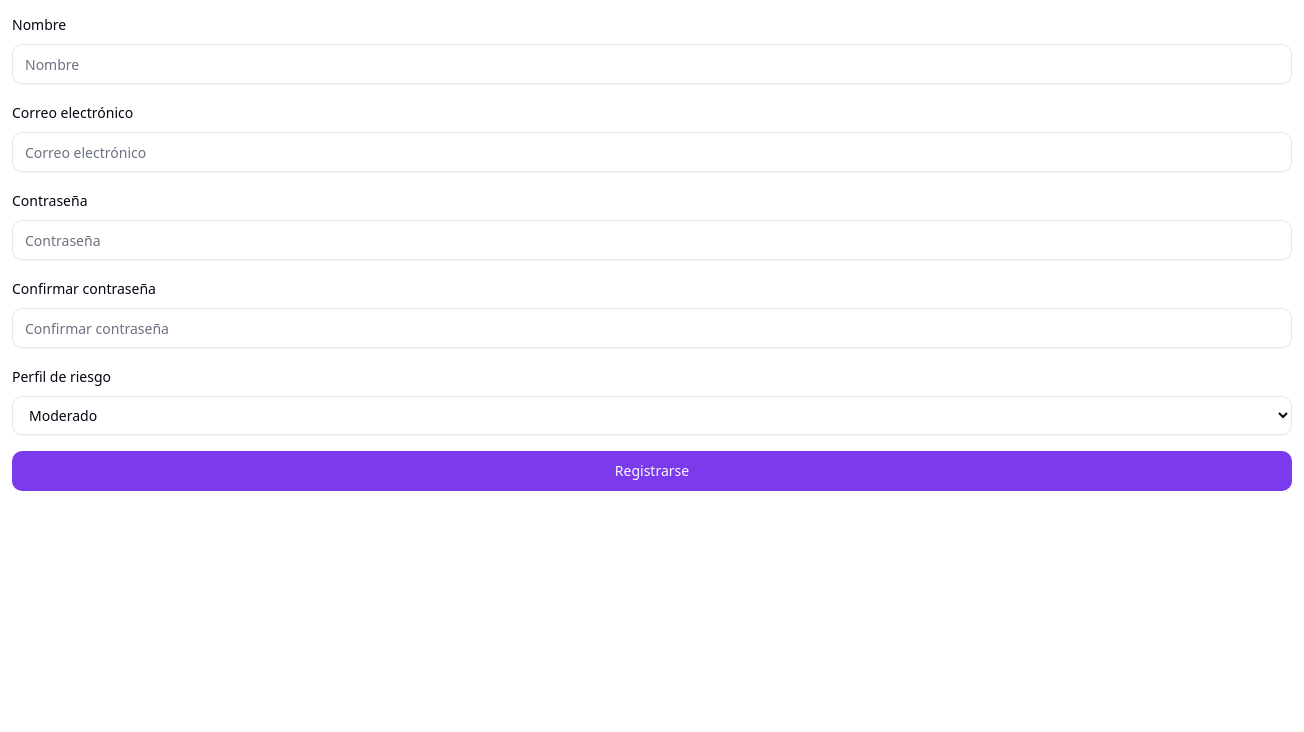
Test: RegisterForm › muestra error cuando el correo tiene formato inválido
Type "Jane" into the field with placeholder "Nombre" at point(652, 64), box [12, 44, 1292, 84]
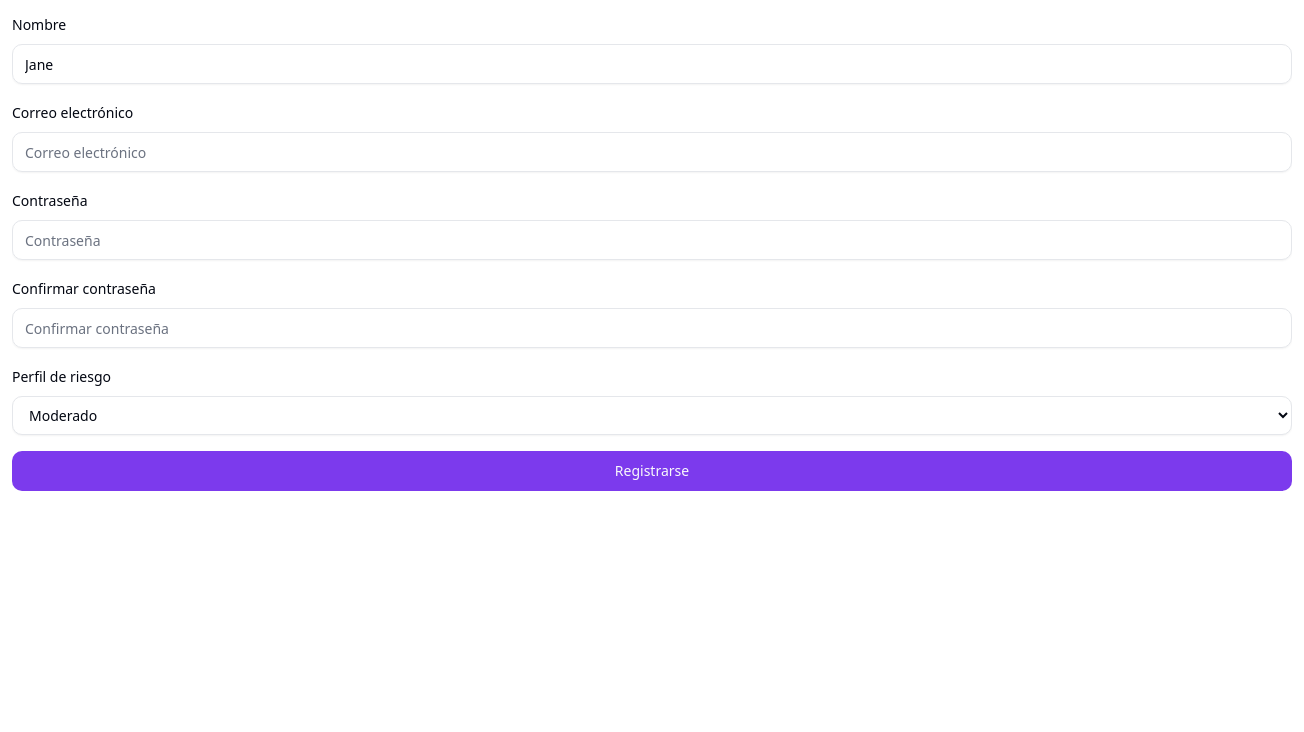
Type "usuario" into the field with placeholder "Correo electrónico" at point(652, 152), box [12, 132, 1292, 172]
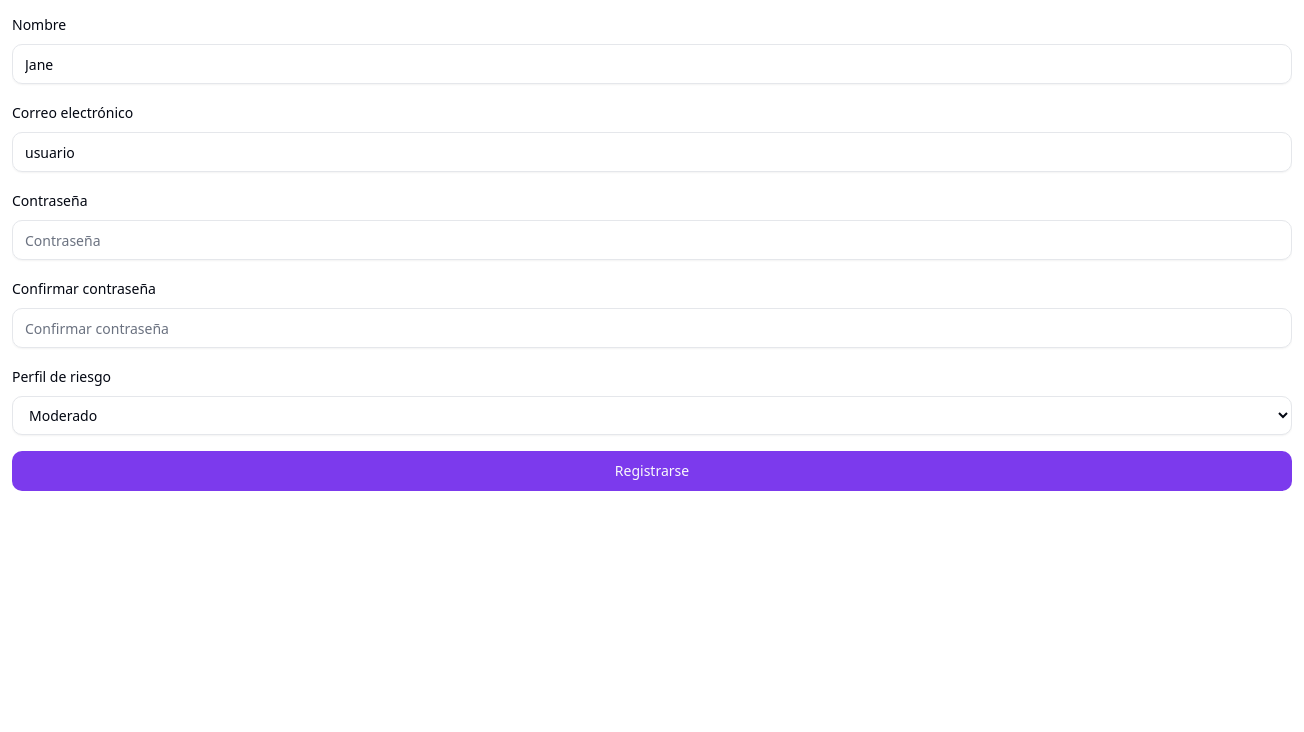
Type "secret123" into the password field with placeholder "Contraseña" at point(652, 240), box [12, 220, 1292, 260]
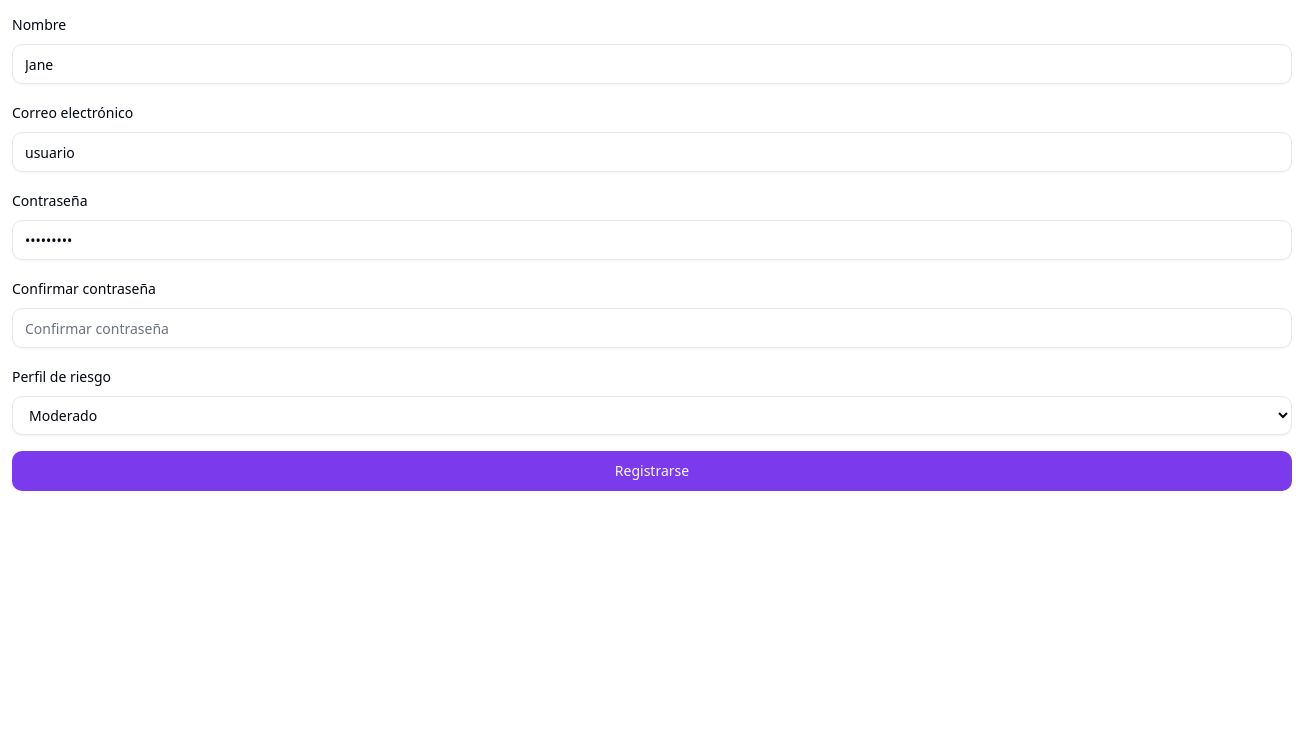
Type "secret123" into the password field with placeholder "Confirmar contraseña" at point(652, 328), box [12, 308, 1292, 348]
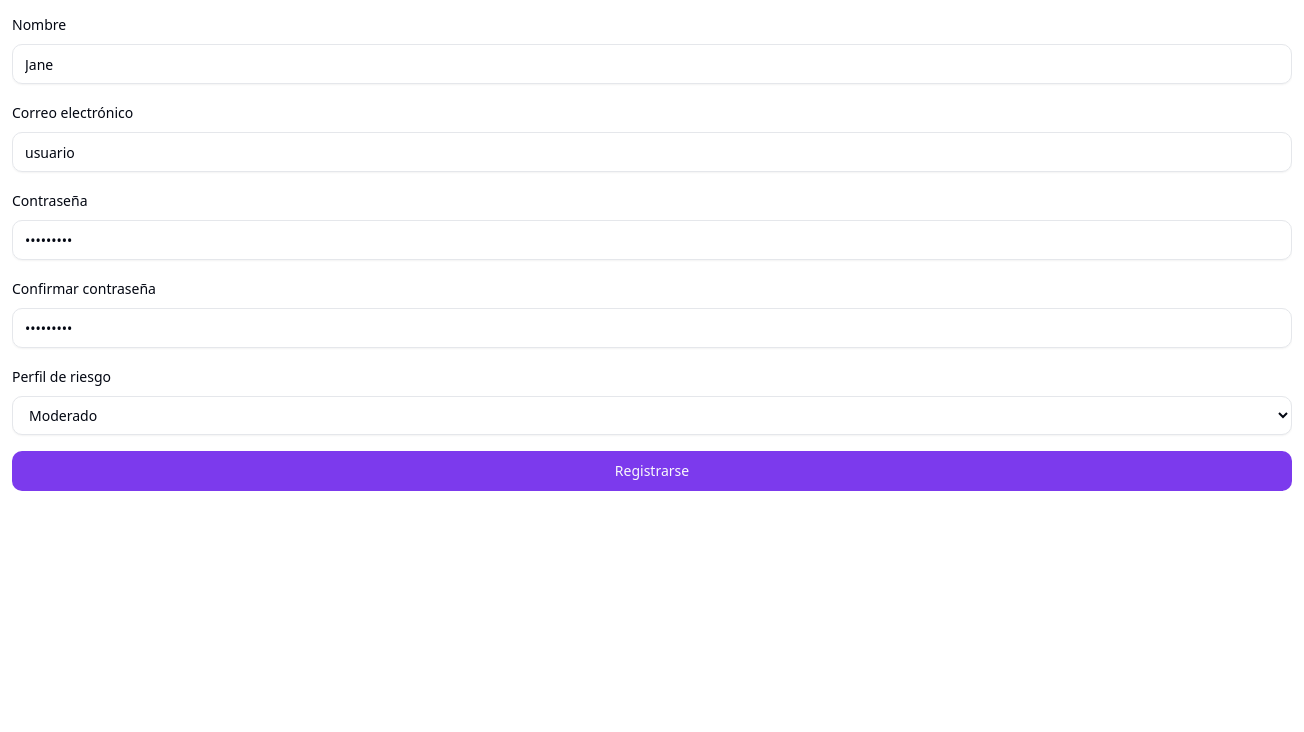
Submit the form named "registrarse"
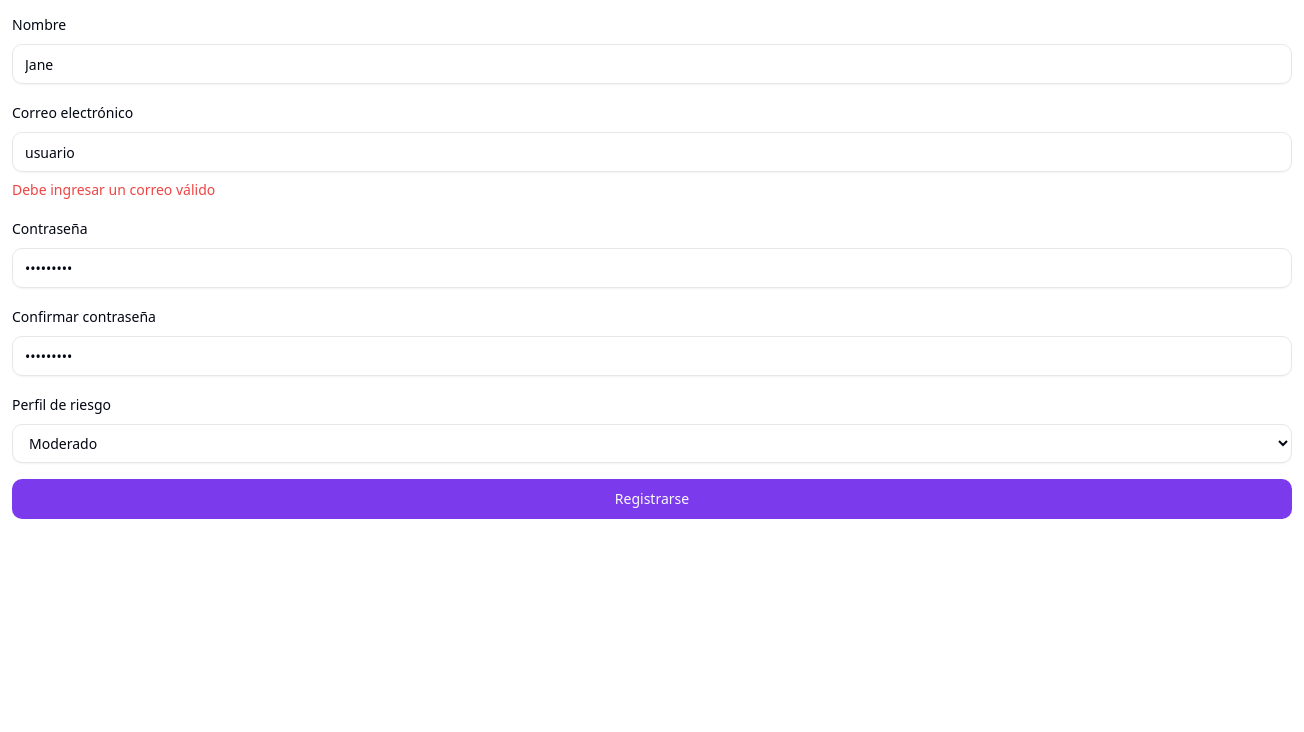
Now the text "Debe ingresar un correo válido" is shown, box [12, 180, 215, 199]
